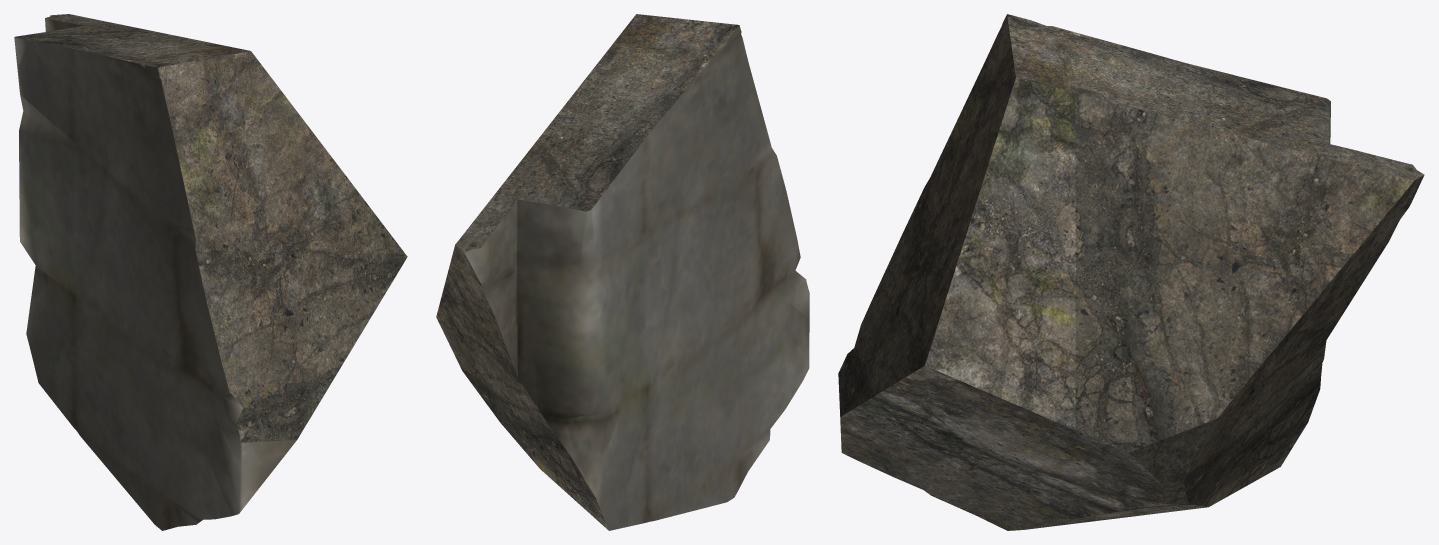
File: ColumnDamage08_8.fbx
3 renders of one model, left to right at view 1: azimuth 30°, elevation 25°; view 2: azimuth 150°, elevation 25°; view 3: azimuth 270°, elevation 25°, orthographic. The views are drawn at different scales.
Parts seen in each view (by area): view 1: ColumnDamage08_DM.008; view 2: ColumnDamage08_DM.008; view 3: ColumnDamage08_DM.008.
Part boxes in pixels (box(x1,y1,x2,y2)): ColumnDamage08_DM.008: box(14, 14, 407, 530); ColumnDamage08_DM.008: box(436, 14, 809, 530); ColumnDamage08_DM.008: box(838, 14, 1424, 530).
Bounding box in the file's own units: 89.26 × 176 × 182.
2 materials, 2 textured.
